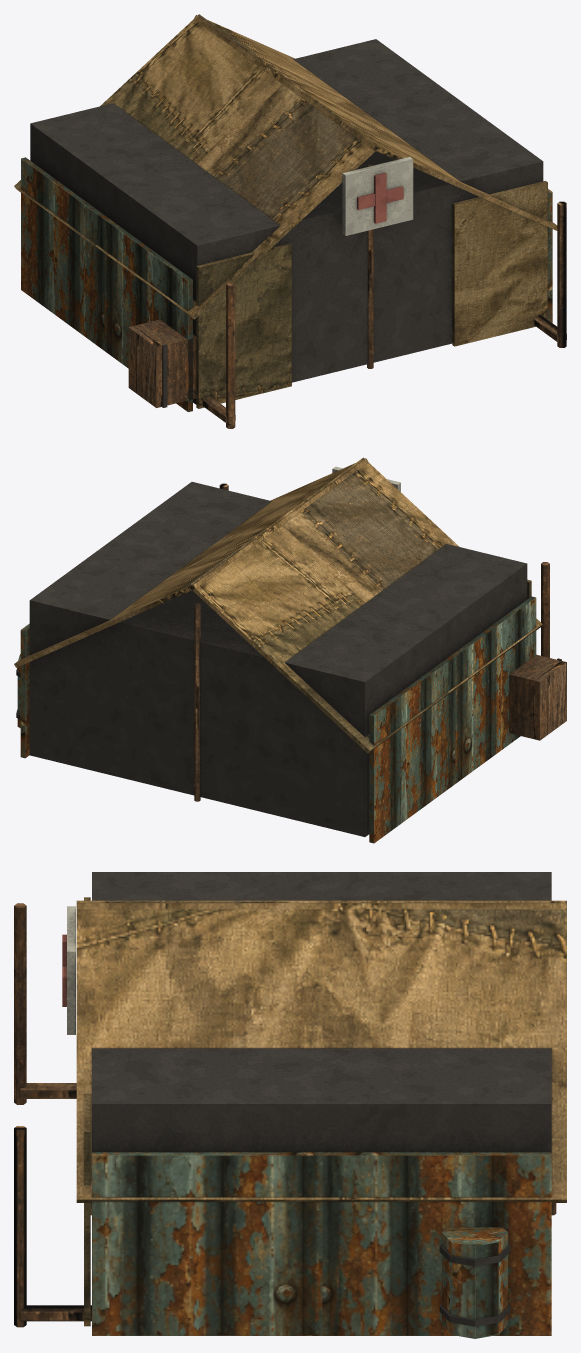
The model's file is Hospital.fbx.
3 views of the same model, one above another, from view 1: azimuth 30°, elevation 25°; view 2: azimuth 150°, elevation 25°; view 3: azimuth 270°, elevation 25° (orthographic). The views are drawn at different scales.
Parts seen in each view (by area): view 1: Hospital; view 2: Hospital; view 3: Hospital.
Part boxes in pixels (x1,y1,x2,y2): Hospital: (14,14,566,428); Hospital: (14,457,566,843); Hospital: (14,872,566,1338).
Bounding box in the file's own units: 2.65 × 1.35 × 2.17.
Materials: 1 (1 with a texture image).
